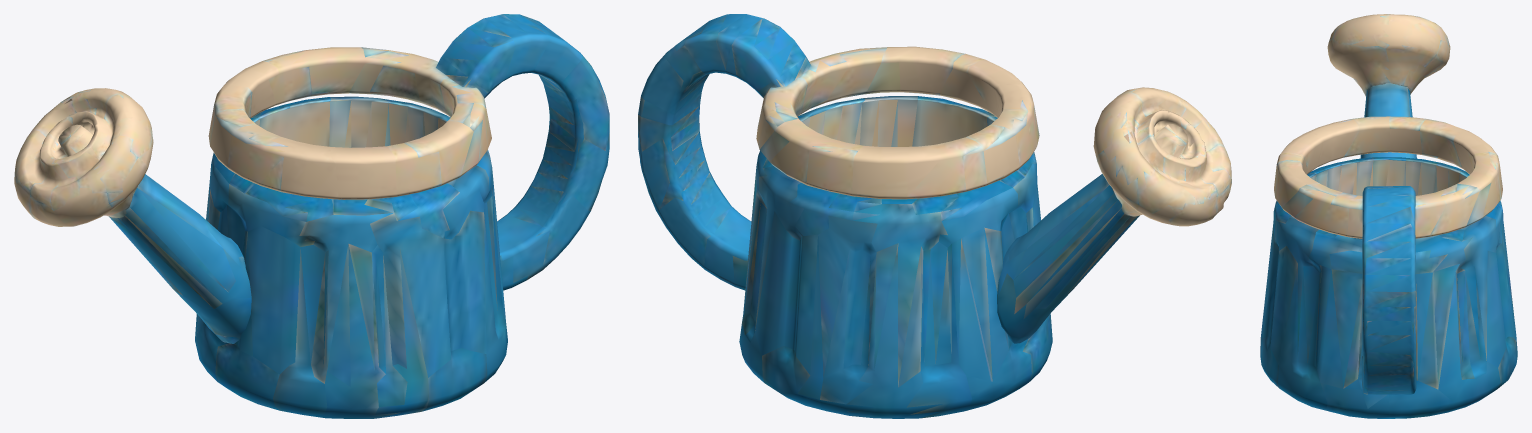
The model's file is tool_can.glb.
3 renders of one model, left to right at view 1: azimuth 30°, elevation 25°; view 2: azimuth 150°, elevation 25°; view 3: azimuth 270°, elevation 25°, orthographic. The views are drawn at different scales.
Bounding box in the file's own units: 1 × 0.553 × 0.4875.
Materials: 1 (1 with a texture image).
